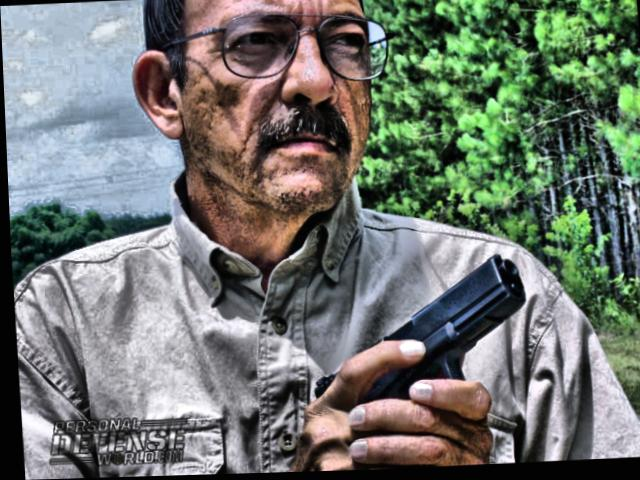pistol: (334, 255, 526, 417)
